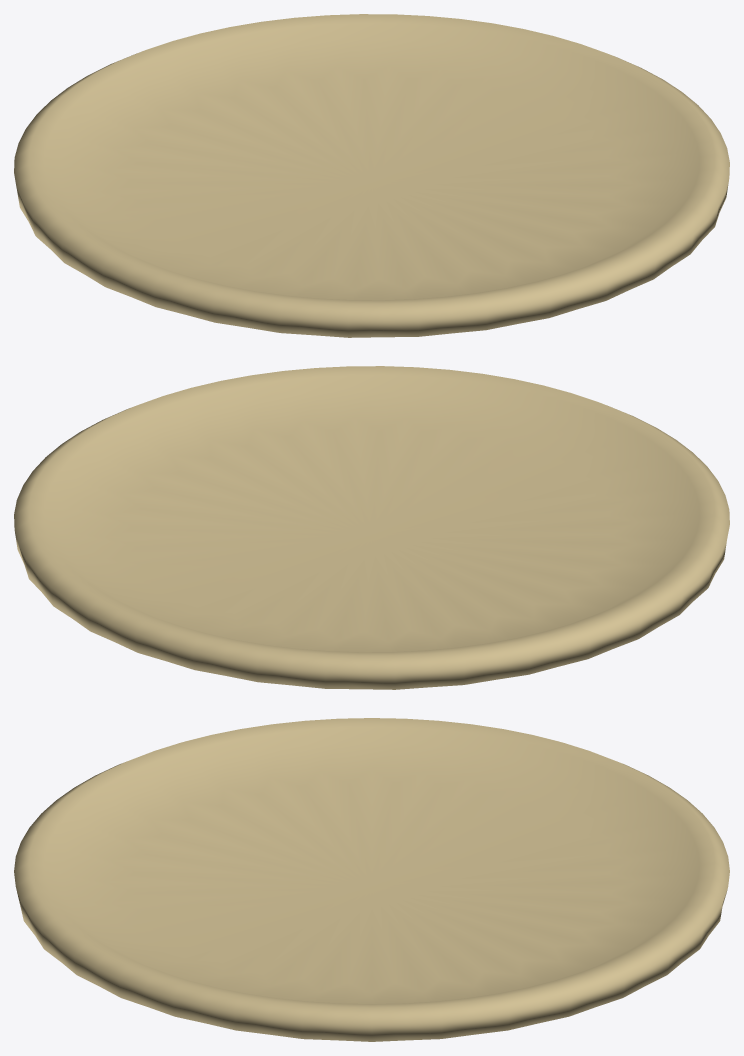
The model's file is FlattenedDough.glb.
3 views of the same model, one above another, from view 1: azimuth 30°, elevation 25°; view 2: azimuth 150°, elevation 25°; view 3: azimuth 270°, elevation 25° (orthographic).
Visible parts, largest first — view 1: Dough; view 2: Dough; view 3: Dough.
Part boxes in pixels (bbox=[...]): Dough: bbox=[14, 14, 729, 337]; Dough: bbox=[14, 366, 729, 689]; Dough: bbox=[14, 718, 729, 1041].
Size of the model in its own units: 1.95 by 0.1805 by 1.95.
